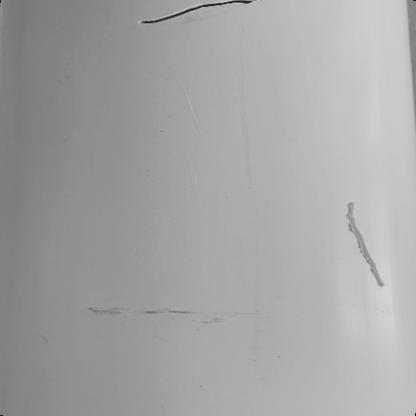fengxi: (138, 1, 258, 27)
sunshang: (341, 201, 389, 287), (85, 303, 216, 322)
